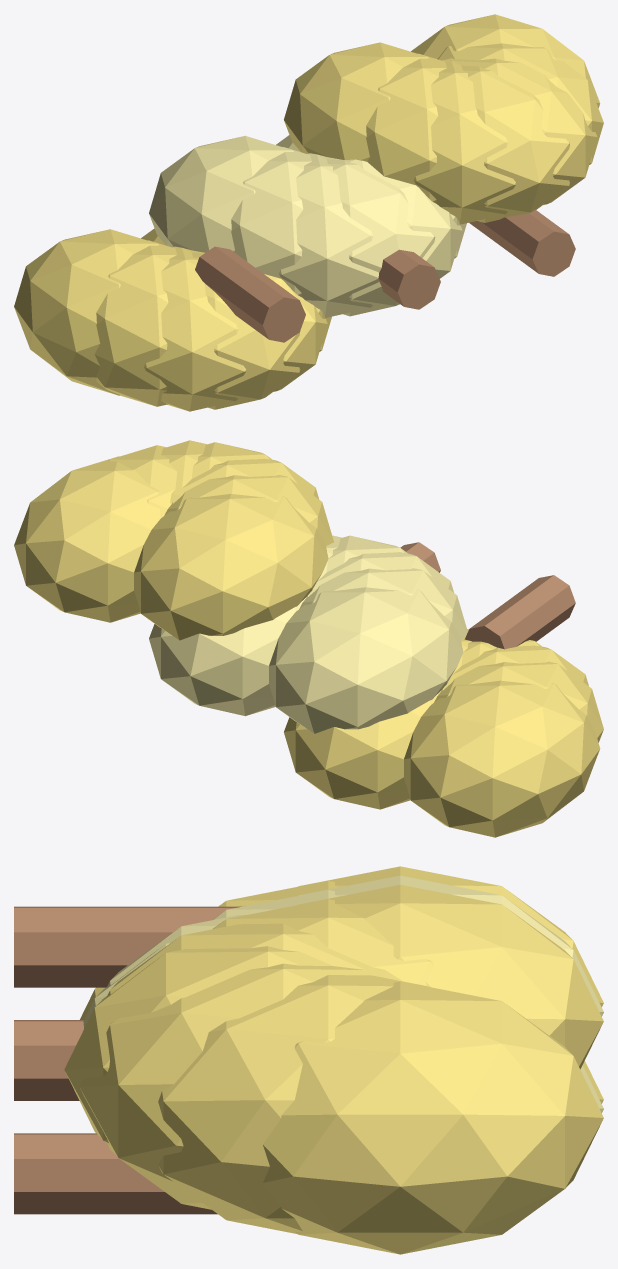
Rendered from banana-4177.glb.
The picture shows the model from 3 angles, top to bottom: view 1: azimuth 30°, elevation 25°; view 2: azimuth 150°, elevation 25°; view 3: azimuth 270°, elevation 25°; orthographic projection. The views are drawn at different scales.
Parts seen in each view (by area): view 1: banana0_0, banana2_0, banana1_0, banana0_2, banana0_1, banana2_2, banana1_2, banana2_3, banana2_1, banana1_1, banana1_3, stem0 (+8 smaller); view 2: banana0_0, banana1_0, banana2_0, banana2_6, banana1_6, banana0_6, stem0, banana0_1, banana1_1, banana2_1, banana2_5, banana2_2 (+6 smaller); view 3: banana2_6, banana2_5, banana2_0, banana2_4, stem0, stem2, banana2_3, banana2_1, stem1, banana2_2, banana0_0, banana1_0 (+3 smaller).
Part boxes in pixels (box(x1,y1,x2,y2)): banana0_0: box(14, 229, 158, 395); banana2_0: box(284, 42, 428, 161); banana1_0: box(149, 135, 293, 252); banana0_2: box(144, 246, 246, 411); banana0_1: box(94, 240, 176, 406); banana2_2: box(414, 58, 515, 224); banana1_2: box(279, 153, 378, 317); banana2_3: box(461, 65, 569, 222); banana2_1: box(366, 53, 446, 203); banana1_1: box(231, 147, 311, 297); banana1_3: box(326, 159, 435, 316); stem0: box(195, 246, 305, 342); banana0_0: box(404, 680, 600, 837); banana1_0: box(269, 587, 463, 733); banana2_0: box(134, 494, 328, 640); banana2_6: box(14, 456, 163, 622); banana1_6: box(149, 606, 298, 716); banana0_6: box(284, 700, 433, 809); stem0: box(464, 575, 575, 649); banana0_1: box(434, 661, 603, 742); banana1_1: box(299, 568, 467, 639); banana2_1: box(164, 474, 333, 545); banana2_5: box(108, 445, 177, 515); banana2_2: box(171, 458, 319, 504); banana2_6: box(263, 981, 603, 1254); banana2_5: box(158, 975, 429, 1233); banana2_0: box(298, 884, 603, 1069); banana2_4: box(79, 963, 397, 1209); stem0: box(14, 906, 241, 987); stem2: box(14, 1133, 217, 1214); banana2_3: box(64, 946, 332, 1145); banana2_1: box(213, 899, 433, 985); stem1: box(14, 1020, 83, 1100); banana2_2: box(106, 923, 402, 997); banana0_0: box(298, 866, 603, 1006); banana1_0: box(298, 875, 603, 1016).
Bounding box in the file's own units: 2.7 × 1.21 × 1.46.
